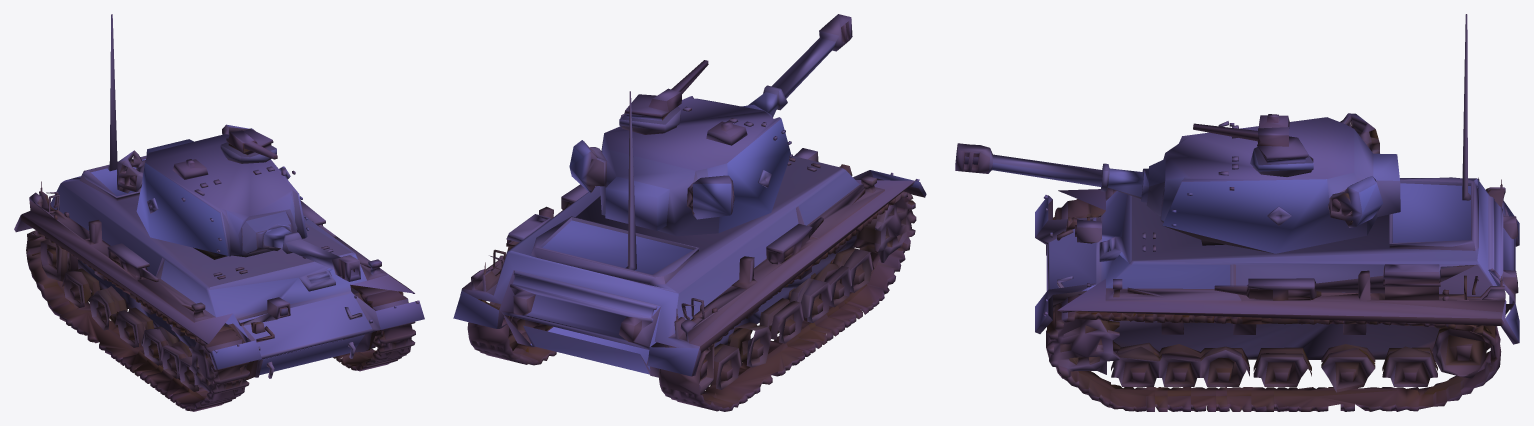
Rendered from model.progressive.glb.
3 views of the same model, side by side, from view 1: azimuth 30°, elevation 25°; view 2: azimuth 150°, elevation 25°; view 3: azimuth 270°, elevation 25° (orthographic). The views are drawn at different scales.
Visible parts, largest first — view 1: material; view 2: material; view 3: material.
Part boxes in pixels (bbox=[...]): material: bbox=[14, 14, 424, 411]; material: bbox=[453, 14, 926, 411]; material: bbox=[955, 14, 1519, 411].
Bounding box in the file's own units: 0.9635 × 1.21 × 1.9.
1 material, 1 textured.
